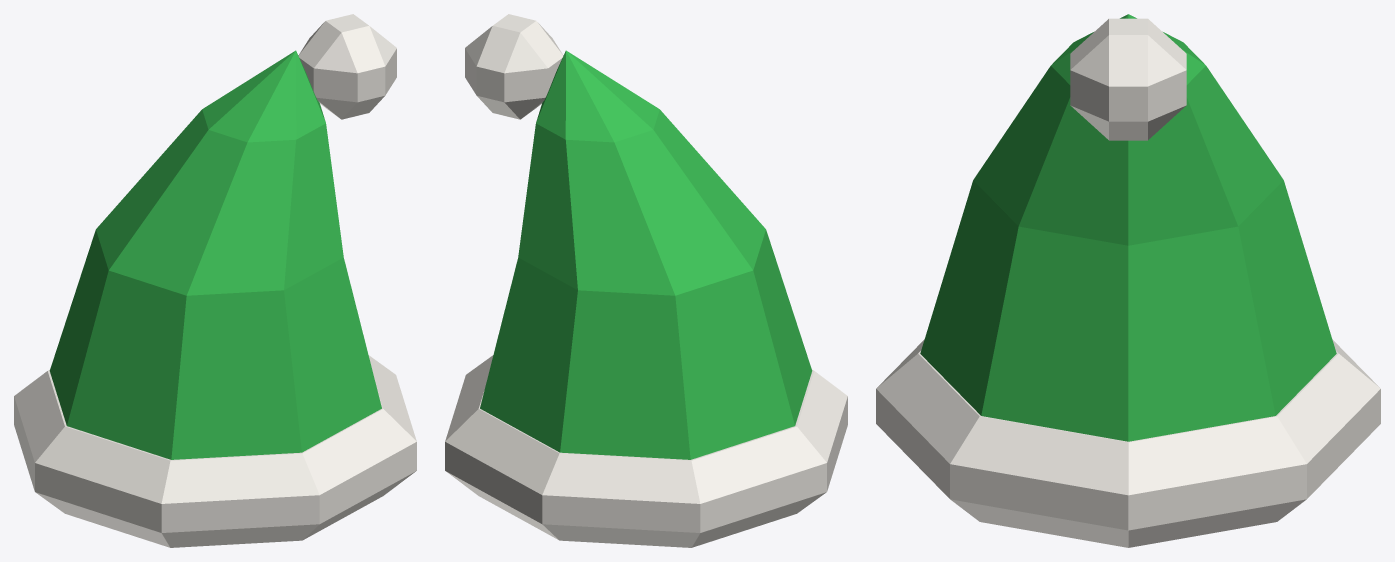
Rendered from ElfHat.fbx.
3 renders of one model, left to right at view 1: azimuth 30°, elevation 25°; view 2: azimuth 150°, elevation 25°; view 3: azimuth 270°, elevation 25°, orthographic. The views are drawn at different scales.
Visible parts, largest first — view 1: ElfHat; view 2: ElfHat; view 3: ElfHat.
Boxes of the visible parts, x1,y1,x2,y2 form: ElfHat: [14, 14, 416, 547]; ElfHat: [445, 14, 847, 547]; ElfHat: [876, 14, 1380, 547].
Size of the model in its own units: 2.6 by 2.9 by 2.6.
Materials: 1 (1 with a texture image).
